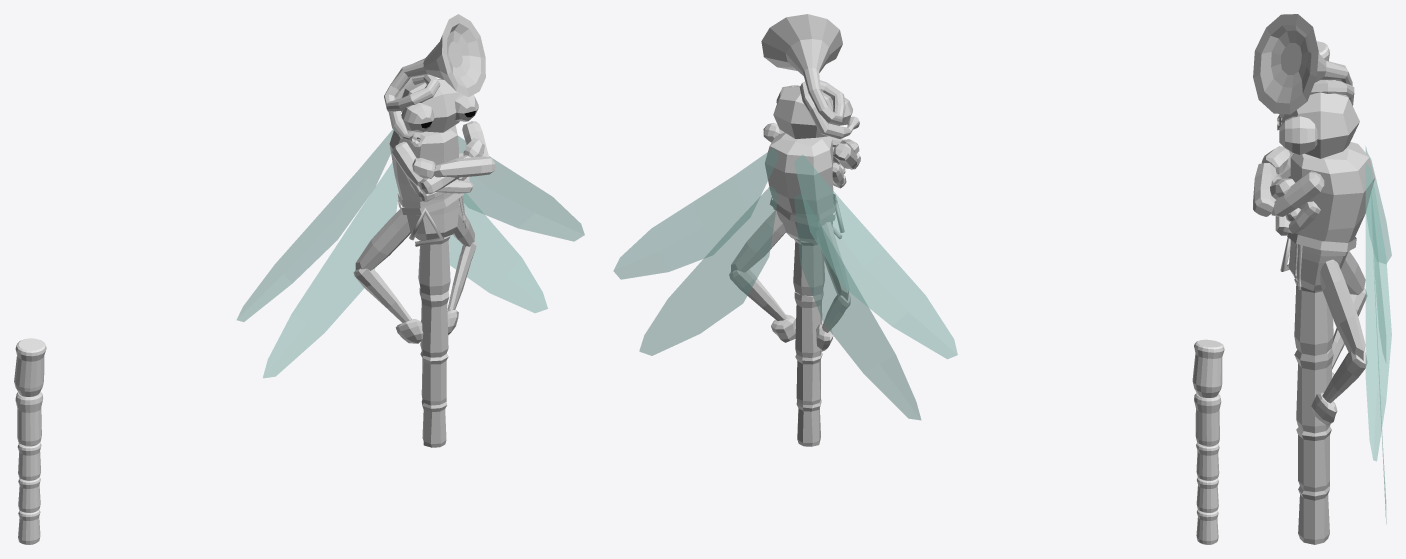
The model's file is Arcano Zéfiro.fbx.
3 renders of one model, left to right at view 1: azimuth 30°, elevation 25°; view 2: azimuth 150°, elevation 25°; view 3: azimuth 270°, elevation 25°, orthographic. The views are drawn at different scales.
Parts seen in each view (by area): view 1: Plane.001, Plane, Plane.002, Cylinder.001, Cylinder, Cube.003, Cube, Cube.006, Cube.001, Sphere, Cube.005, Cube.002; view 2: Plane, Plane.001, Plane.002, Cube, Cylinder.001, Cube.003, Cylinder, Cube.001, Cube.006; view 3: Cylinder.001, Cube, Plane.002, Plane, Cube.003, Cube.006, Cube.001, Sphere, Plane.001, Cube.005, Cube.002, Cylinder.002 (+2 smaller).
Part boxes in pixels (left/top/right/bottom): Plane.001: left=263, top=162, right=547, bottom=378; Plane: left=237, top=129, right=584, bottom=321; Plane.002: left=384, top=14, right=485, bottom=147; Cylinder.001: left=418, top=235, right=450, bottom=447; Cylinder: left=14, top=338, right=46, bottom=544; Cube.003: left=353, top=205, right=476, bottom=343; Cube: left=389, top=124, right=459, bottom=240; Cube.006: left=392, top=121, right=495, bottom=194; Cube.001: left=401, top=79, right=459, bottom=132; Sphere: left=401, top=93, right=478, bottom=132; Cube.005: left=397, top=193, right=463, bottom=214; Cube.002: left=406, top=153, right=473, bottom=202; Plane: left=613, top=148, right=957, bottom=359; Plane.001: left=639, top=185, right=921, bottom=420; Plane.002: left=761, top=14, right=859, bottom=138; Cube: left=765, top=132, right=833, bottom=244; Cylinder.001: left=793, top=238, right=824, bottom=446; Cube.003: left=729, top=210, right=850, bottom=351; Cylinder: left=1192, top=339, right=1224, bottom=544; Cube.001: left=773, top=86, right=833, bottom=138; Cube.006: left=763, top=123, right=860, bottom=169; Cylinder.001: left=1294, top=278, right=1333, bottom=544; Cube: left=1288, top=142, right=1374, bottom=290; Plane.002: left=1253, top=14, right=1354, bottom=130; Plane: left=1365, top=146, right=1391, bottom=461; Cube.003: left=1311, top=251, right=1367, bottom=425; Cube.006: left=1253, top=146, right=1324, bottom=216; Cube.001: left=1281, top=92, right=1359, bottom=158; Sphere: left=1279, top=114, right=1317, bottom=154; Plane.001: left=1371, top=195, right=1386, bottom=523; Cube.005: left=1287, top=232, right=1356, bottom=256; Cube.002: left=1275, top=201, right=1320, bottom=235; Cylinder.002: left=1294, top=244, right=1302, bottom=289.
Size of the model in its own units: 2825 by 1949 by 462.
